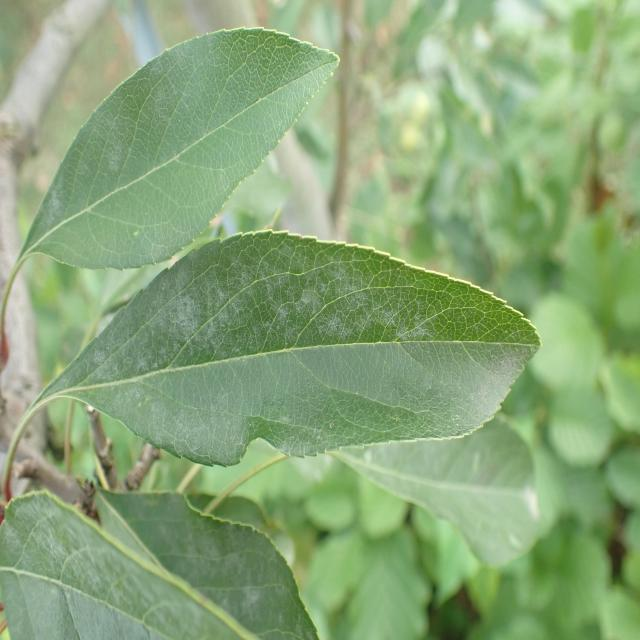Powdery_mildew: (8, 228, 531, 453), (24, 15, 343, 259), (0, 480, 319, 640), (326, 397, 560, 579)
